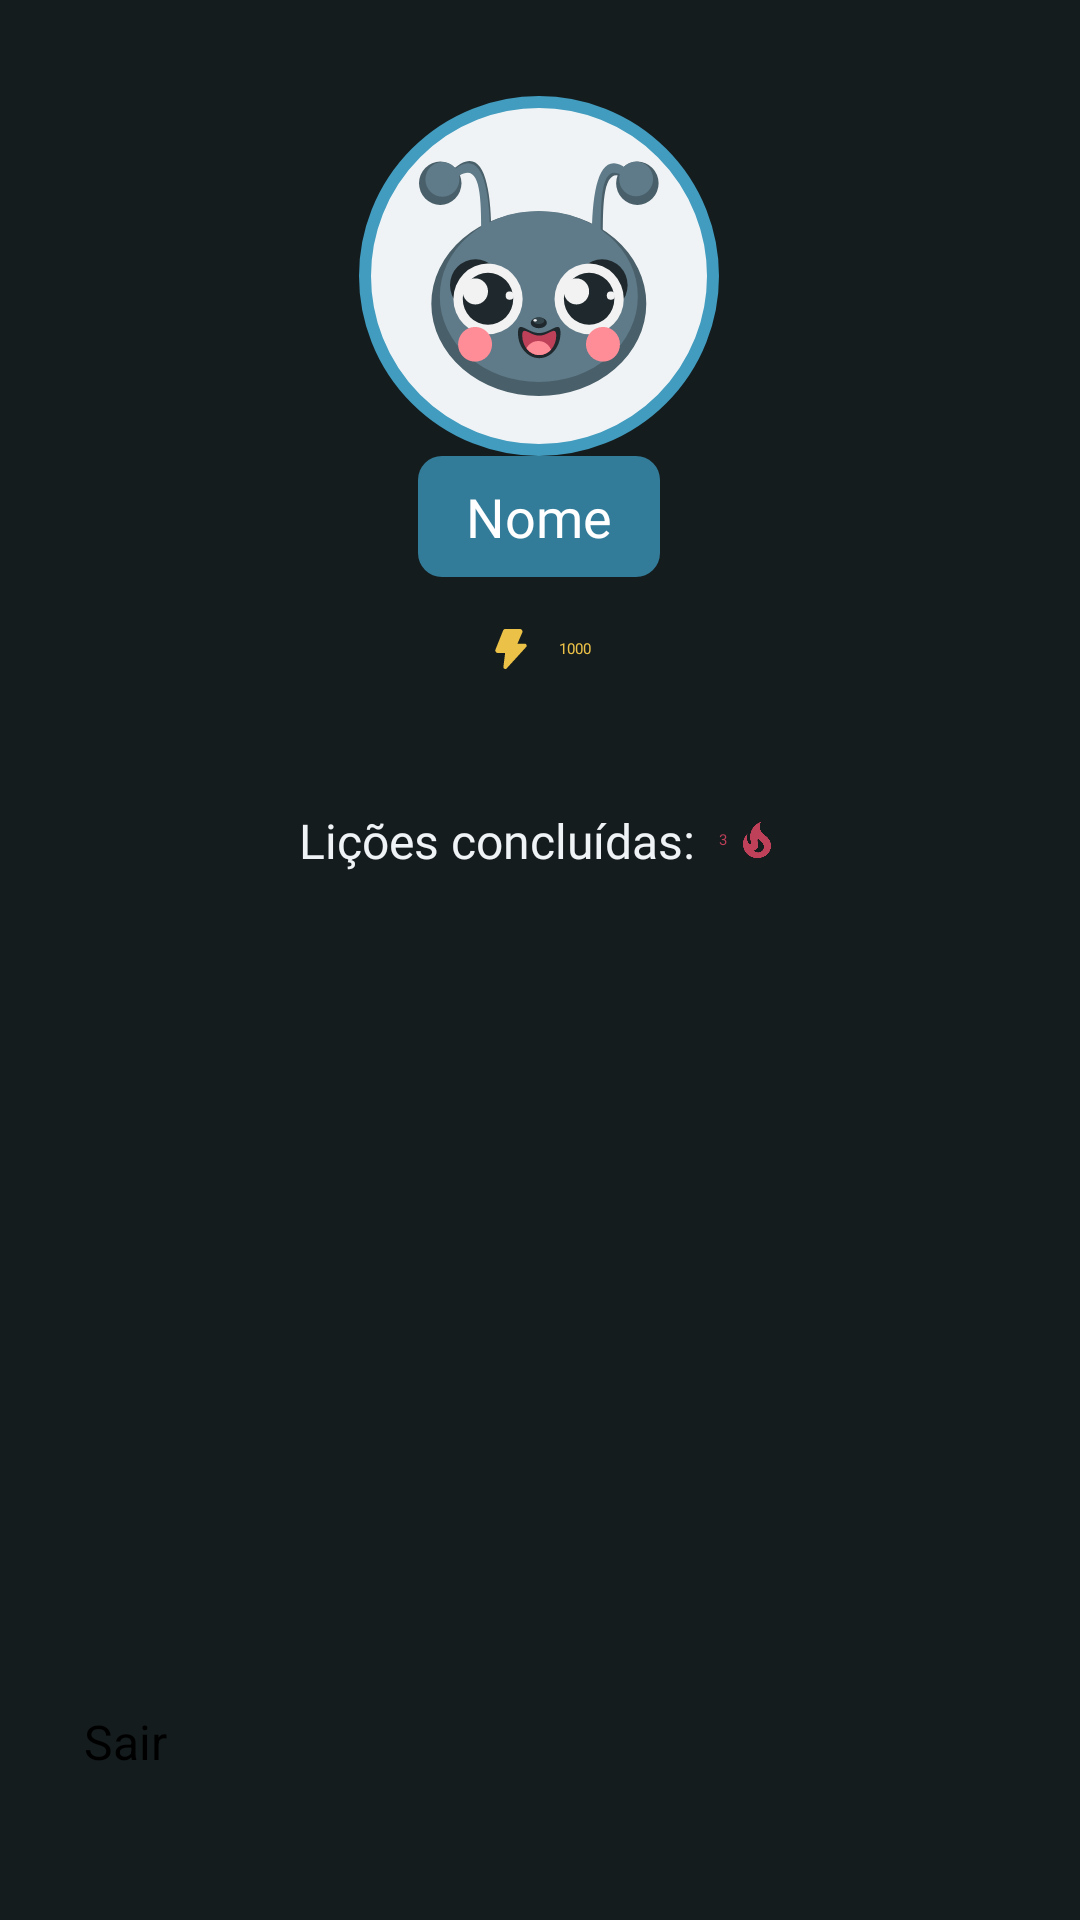

Screen size 1080px x 1920px. Icon name, then its box in pixels as (x1, y1, x2, y2):
fire: (743, 822, 771, 858)
points: (495, 629, 527, 669)
